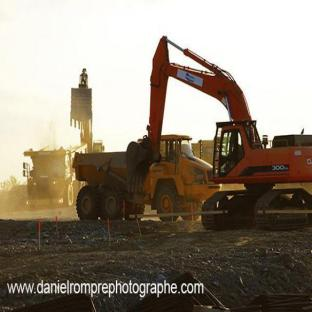ExcavationMachinery: (112, 30, 312, 248), (59, 72, 105, 151)
Vehicle: (69, 132, 207, 225), (14, 137, 81, 202)
